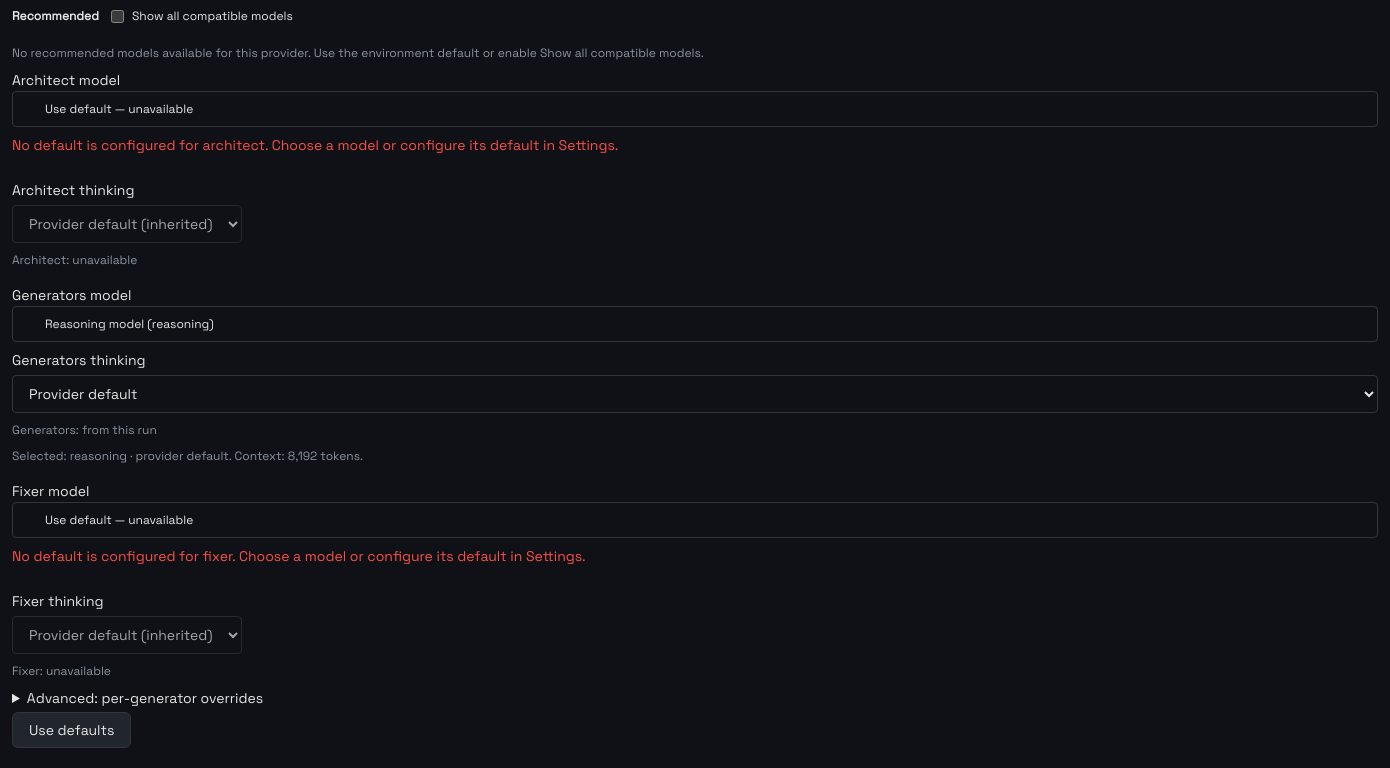
it: FR-UI-01 only supported modes can be selected and incompatible models are absent
Check: the dropdown labelled "Generators thinking" does not show "high", box [12, 375, 1378, 413]
Click the checkbox labelled "Show all compatible models" at (117, 16), box [111, 10, 124, 22]
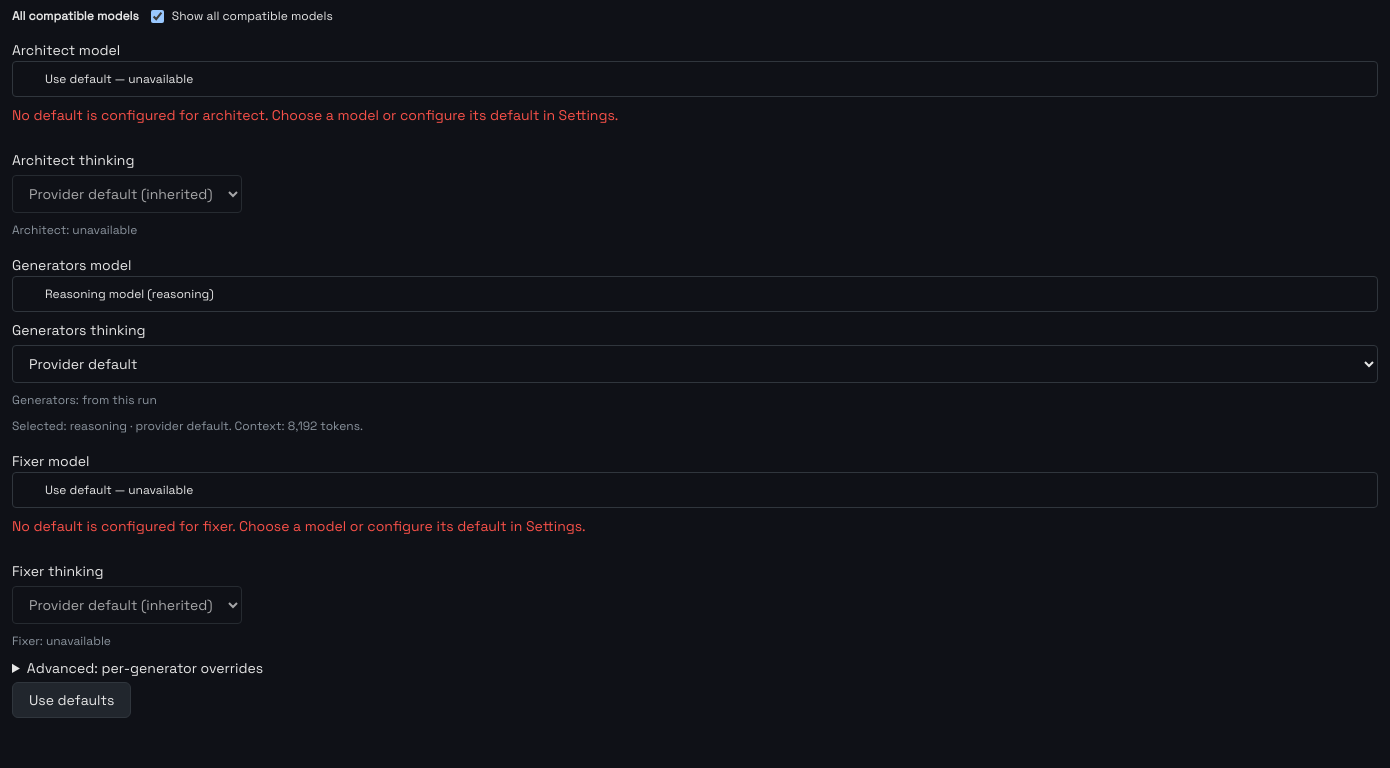
Click the dropdown labelled "Generators model" at (695, 294), box [12, 276, 1378, 312]
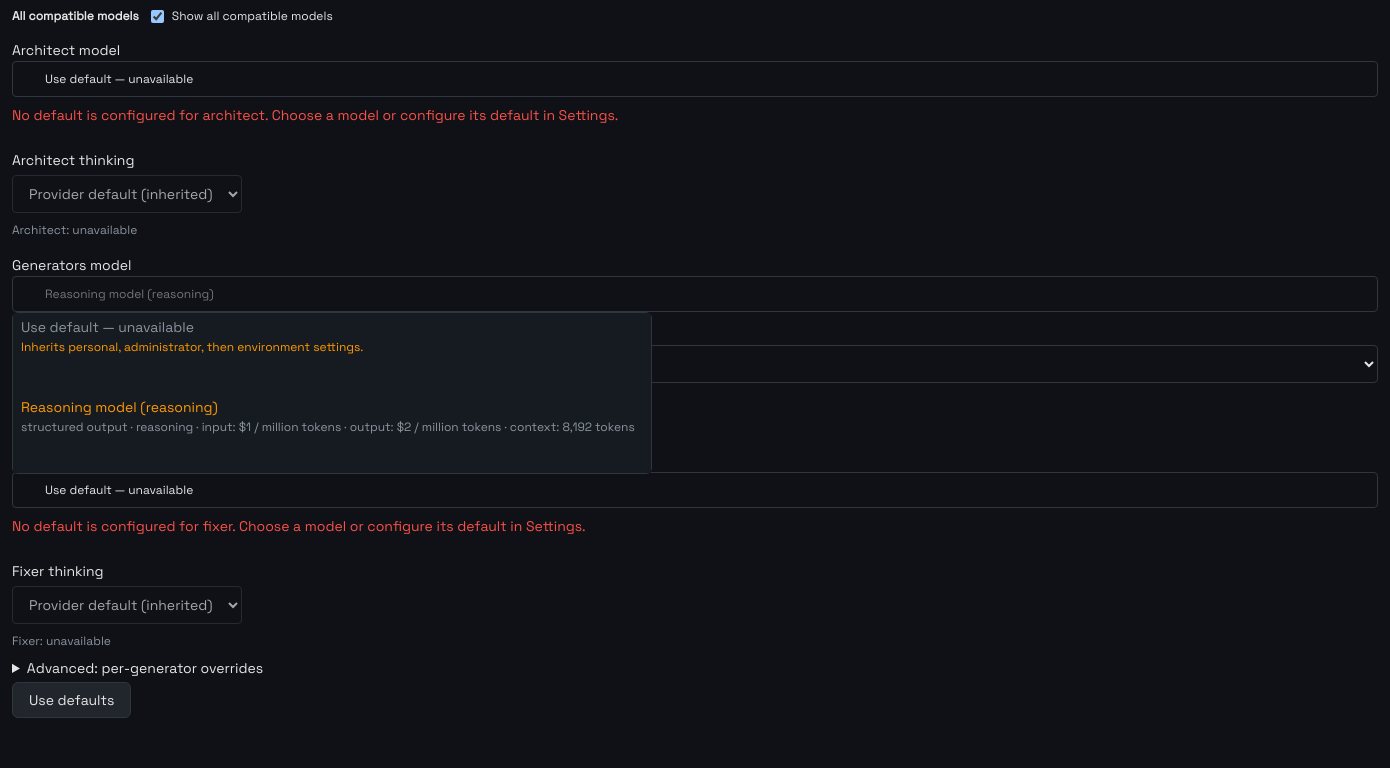
Check: the text "8,192" is shown, box [21, 419, 635, 435]
